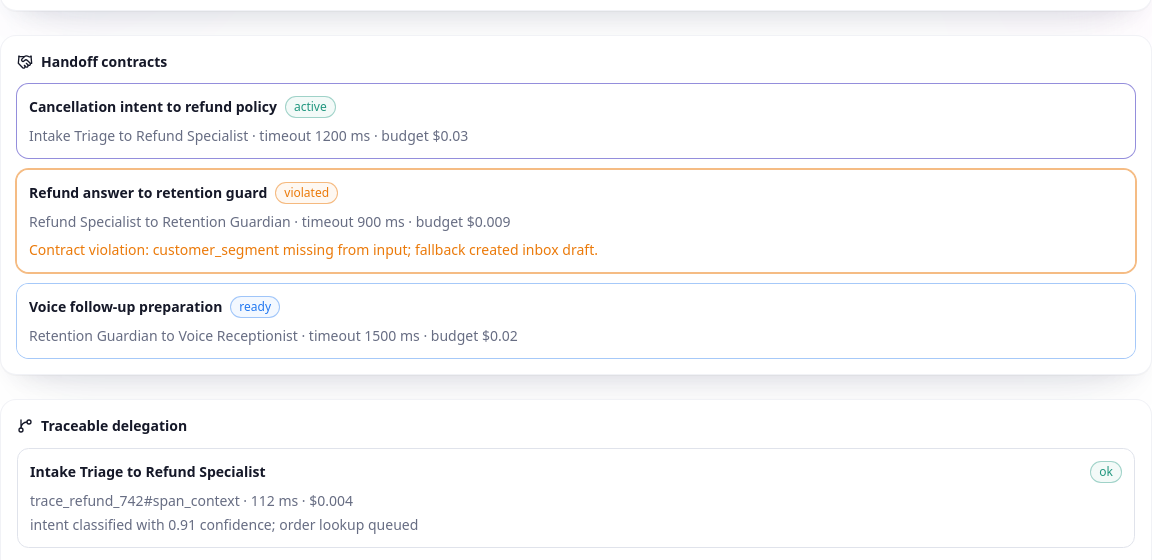
Test case: ConductorStudio › makes handoff violations explicit with fallback and evidence
(page scrolled)
Click the button with test id "conductor-contract-contract_refund_to_retention".
click(148, 192)  # box [17,170,1135,272]
(page scrolled)
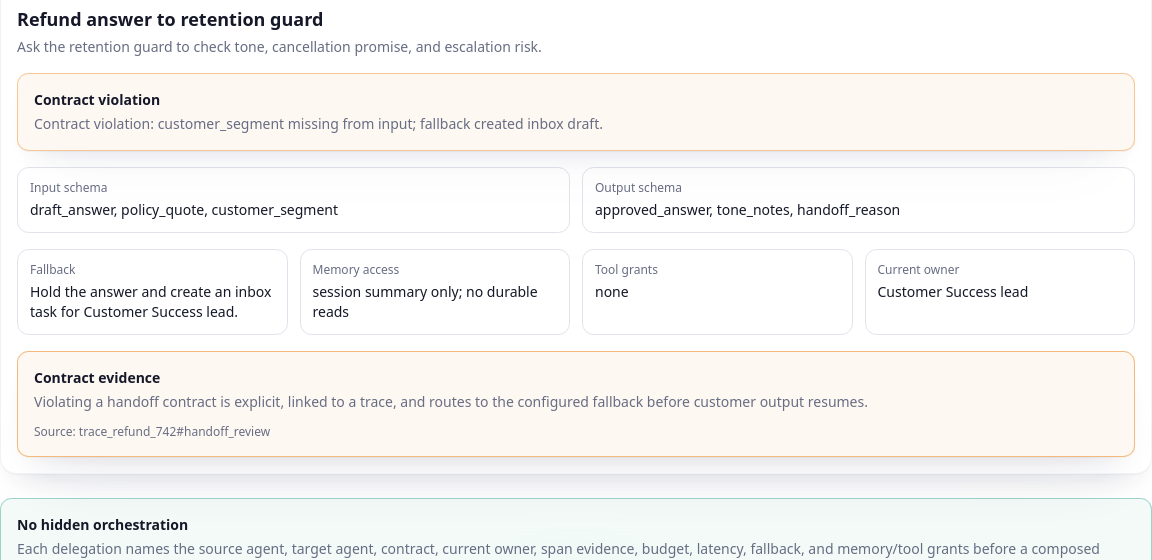
Check: the element with test id "conductor-contract-detail" shows "customer_segment missing", box [34,114,603,133]
Check: the element with test id "conductor-contract-detail" shows "Hold the answer and create an inbox task", box [30,282,271,321]
